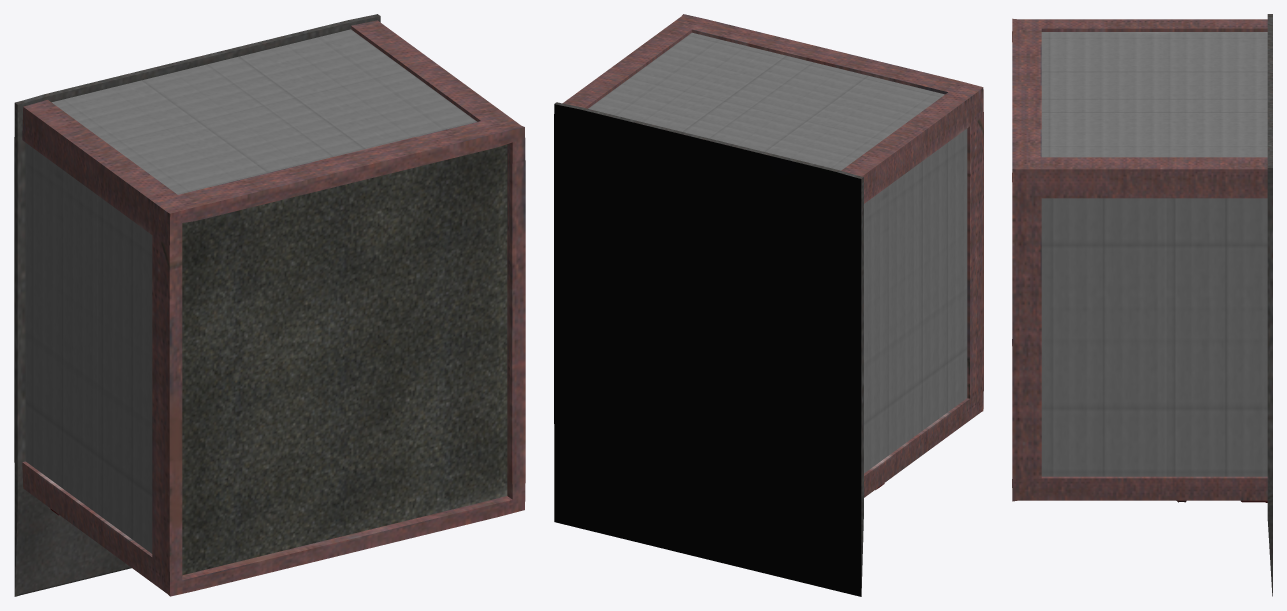
3 renders of one model, left to right at view 1: azimuth 30°, elevation 25°; view 2: azimuth 150°, elevation 25°; view 3: azimuth 270°, elevation 25°, orthographic. The views are drawn at different scales.
Parts seen in each view (by area): view 1: 10070_Fire_Department_V2_Max2011; view 2: 10070_Fire_Department_V2_Max2011; view 3: 10070_Fire_Department_V2_Max2011.
Part boxes in pixels (<box>): 10070_Fire_Department_V2_Max2011: <box>14,14,525,596</box>; 10070_Fire_Department_V2_Max2011: <box>554,14,983,596</box>; 10070_Fire_Department_V2_Max2011: <box>1012,14,1272,596</box>.
Bounding box in the file's own units: 1310 × 1706 × 937.
1 material, 1 textured.
